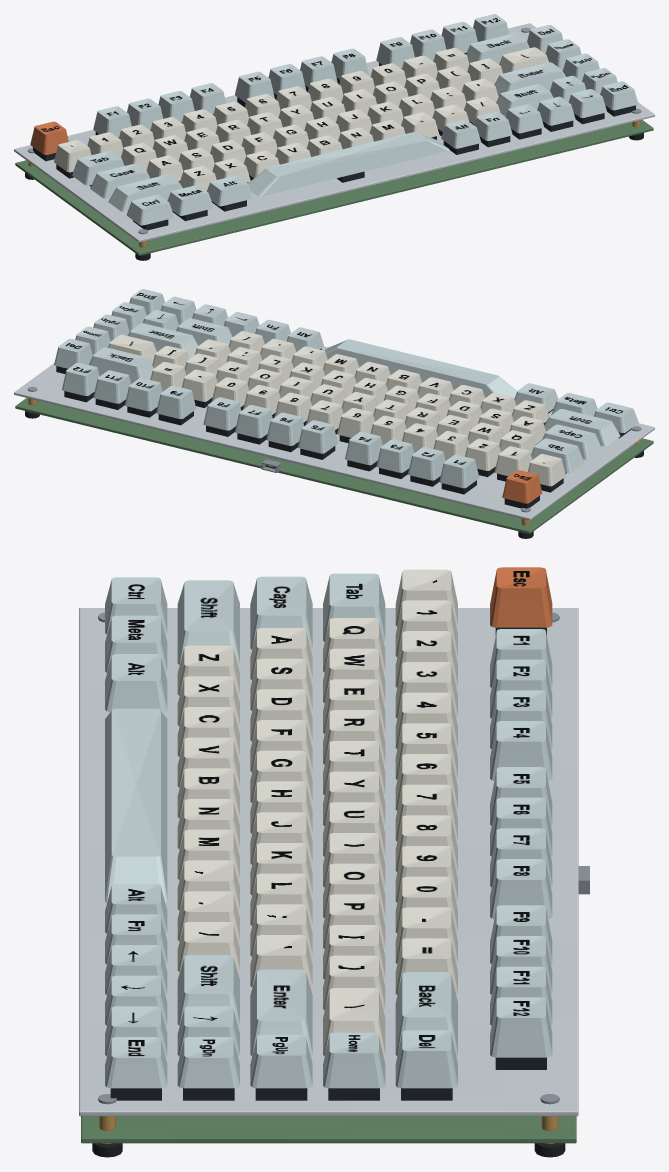
The model's file is innerscene-75-no-case.glb.
3 views of the same model, one above another, from view 1: azimuth 30°, elevation 25°; view 2: azimuth 150°, elevation 25°; view 3: azimuth 270°, elevation 25° (orthographic). The views are drawn at different scales.
Visible parts, largest first — view 1: Switch mounting plate, Printed circuit substrate, Keycap 58 Space, Keycap 42 Shift, Keycap 41 Enter, Keycap 14 Back, Keycap 29 Caps, Keycap 55 Ctrl, Keycap 56 Meta, Keycap 57 Alt, Keycap 15 Tab, Keycap 53 Shift (+71 smaller); view 2: Switch mounting plate, Printed circuit substrate, Keycap 58 Space, Keycap 14 Back, Keycap 42 Shift, Keycap 41 Enter, Keycap 29 Caps, Keycap 64 Esc, Keycap 65 F1, Keycap 69 F5, Keycap 73 F9, Keycap 15 Tab (+71 smaller); view 3: Switch mounting plate, Printed circuit substrate, Keycap 58 Space, Keycap 41 Enter, Keycap 42 Shift, Keycap 14 Back, Keycap 76 F12, Keycap 64 Esc, Keycap 81 Del, Keycap 80 Home, Keycap 57 Alt, Keycap 29 Caps (+71 smaller).
Boxes of the visible parts, <box> form: Switch mounting plate: <box>14,23,654,242</box>; Printed circuit substrate: <box>15,120,653,255</box>; Keycap 58 Space: <box>248,131,449,196</box>; Keycap 42 Shift: <box>108,174,182,212</box>; Keycap 41 Enter: <box>494,62,565,96</box>; Keycap 14 Back: <box>466,33,529,64</box>; Keycap 29 Caps: <box>90,163,149,198</box>; Keycap 55 Ctrl: <box>126,195,174,225</box>; Keycap 56 Meta: <box>167,185,213,215</box>; Keycap 57 Alt: <box>207,175,252,206</box>; Keycap 15 Tab: <box>72,151,124,185</box>; Keycap 53 Shift: <box>496,84,553,116</box>; Switch mounting plate: <box>14,346,654,520</box>; Printed circuit substrate: <box>15,398,653,533</box>; Keycap 58 Space: <box>324,339,516,398</box>; Keycap 14 Back: <box>89,347,153,383</box>; Keycap 42 Shift: <box>544,409,620,446</box>; Keycap 41 Enter: <box>127,323,197,359</box>; Keycap 29 Caps: <box>542,424,601,459</box>; Keycap 64 Esc: <box>502,470,542,503</box>; Keycap 65 F1: <box>439,454,479,488</box>; Keycap 69 F5: <box>298,420,337,453</box>; Keycap 73 F9: <box>156,385,196,418</box>; Keycap 15 Tab: <box>531,438,583,472</box>; Switch mounting plate: <box>79,608,578,1116</box>; Printed circuit substrate: <box>81,1116,576,1143</box>; Keycap 58 Space: <box>105,708,167,902</box>; Keycap 41 Enter: <box>250,969,312,1056</box>; Keycap 42 Shift: <box>177,580,239,664</box>; Keycap 14 Back: <box>395,972,457,1056</box>; Keycap 76 F12: <box>490,997,552,1057</box>; Keycap 64 Esc: <box>490,567,552,627</box>; Keycap 81 Del: <box>395,1030,457,1088</box>; Keycap 80 Home: <box>323,1032,385,1088</box>; Keycap 57 Alt: <box>105,654,167,711</box>; Keycap 29 Caps: <box>250,576,312,649</box>.
Size of the model in its own units: 0.3128 by 0.0296 by 0.134.
7 materials, 7 textured.
